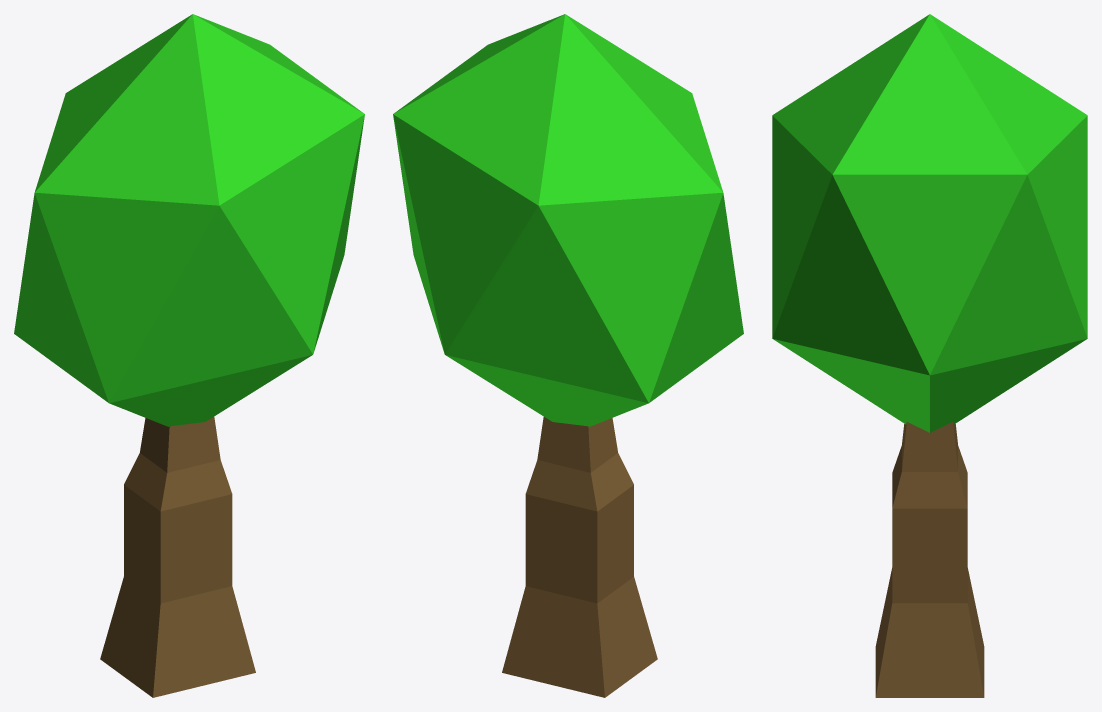
File: Tree2.fbx
3 views of the same model, side by side, from view 1: azimuth 30°, elevation 25°; view 2: azimuth 150°, elevation 25°; view 3: azimuth 270°, elevation 25° (orthographic). The views are drawn at different scales.
Parts seen in each view (by area): view 1: Oak_Sapling; view 2: Oak_Sapling; view 3: Oak_Sapling.
Part boxes in pixels (<box>): Oak_Sapling: <box>14,14,364,697</box>; Oak_Sapling: <box>393,14,743,697</box>; Oak_Sapling: <box>772,14,1087,697</box>.
Size of the model in its own units: 153 by 306 by 131.
